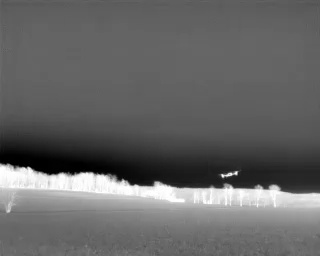DRONE: (217, 166, 243, 182)
